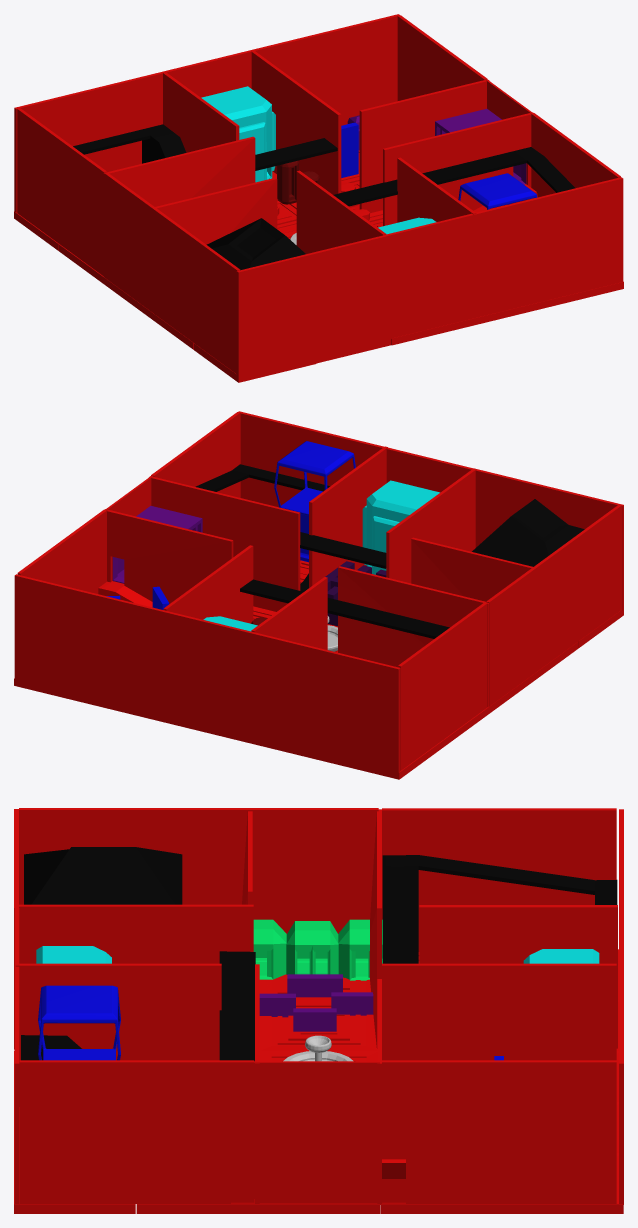
Rendered from stage2_fbx.fbx.
3 views of the same model, one above another, from view 1: azimuth 30°, elevation 25°; view 2: azimuth 150°, elevation 25°; view 3: azimuth 270°, elevation 25° (orthographic). The views are drawn at different scales.
Visible parts, largest first — view 1: murogigante15, murogigante5, murogigante10, murogigante2, murogigante14, murogigante8, murogigante11, muroescalera2, murogigante12, muroescalera, murogigante7, murogigante1 (+21 smaller); view 2: murogigante11, murogigante8, murogigante10, murogigante3, murogigante14, muroescalera, muroescalera2, murogigante12, murogigante5, murogigante1, murogigante15, murogigante16 (+20 smaller); view 3: murogigante6, murogigante9, murogigante7, murogigante10, murogigante, murogigante4, murogigante1, murogigante14, murogigante16, murogigante13, casa3, escalera (+27 smaller).
Part boxes in pixels (x1,y1,x2,y2): murogigante15: (236, 234, 388, 376); murogigante5: (475, 177, 623, 317); murogigante10: (17, 108, 106, 275); murogigante2: (386, 213, 475, 339); murogigante14: (151, 206, 240, 373); murogigante8: (250, 14, 399, 125); murogigante11: (14, 71, 163, 212); muroescalera2: (383, 112, 537, 226); murogigante12: (103, 136, 255, 276); muroescalera: (352, 79, 489, 213); murogigante7: (251, 51, 341, 194); murogigante1: (104, 172, 153, 311); murogigante11: (249, 632, 400, 773); murogigante8: (14, 574, 165, 715); murogigante10: (398, 602, 487, 770); murogigante3: (162, 610, 251, 737); murogigante14: (532, 504, 621, 671); muroescalera: (98, 509, 233, 607); muroescalera2: (149, 476, 300, 611); murogigante12: (338, 566, 488, 706); murogigante5: (238, 411, 386, 507); murogigante1: (486, 568, 536, 706); murogigante15: (473, 468, 623, 610); murogigante16: (386, 469, 475, 583); murogigante6: (19, 1060, 254, 1203); murogigante9: (382, 1060, 616, 1203); murogigante7: (382, 963, 616, 1060); murogigante10: (382, 808, 616, 951); murogigante: (254, 1061, 379, 1203); murogigante4: (15, 963, 221, 1106); murogigante1: (251, 808, 378, 933); murogigante14: (19, 808, 253, 904); murogigante16: (19, 904, 253, 963); murogigante13: (419, 905, 617, 1048); casa3: (24, 847, 182, 904); escalera: (382, 855, 617, 963).
Bounding box in the file's own units: 58.3 × 16.52 × 58.27.
